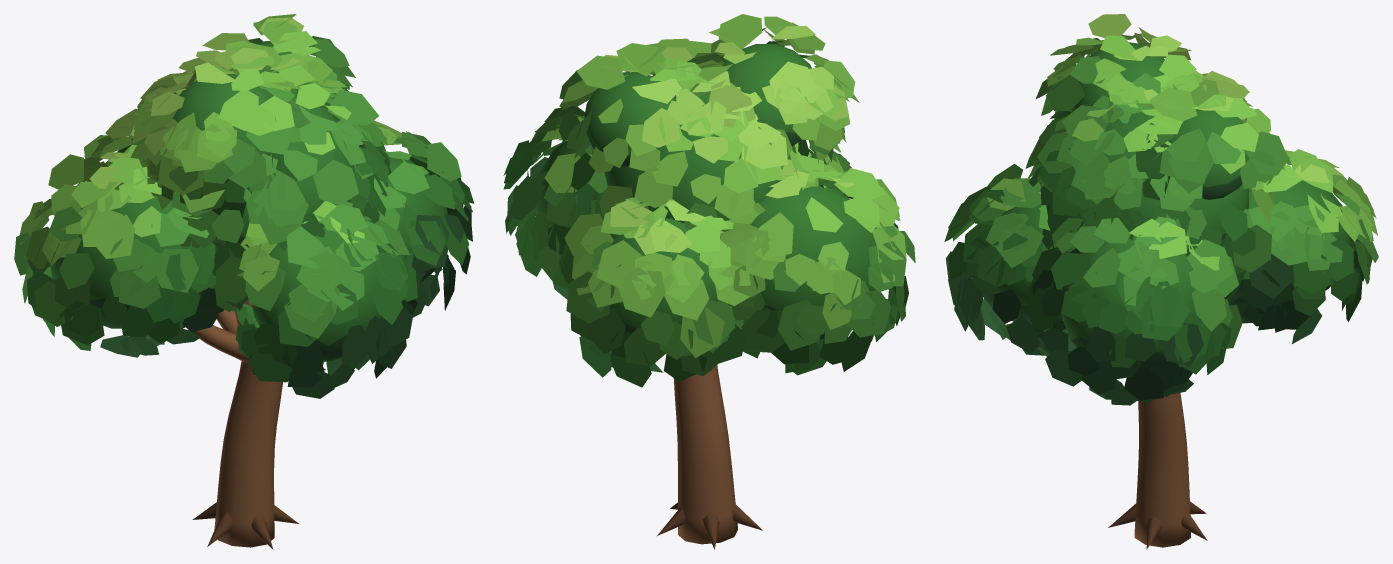
Rendered from TreeOak.glb.
3 renders of one model, left to right at view 1: azimuth 30°, elevation 25°; view 2: azimuth 150°, elevation 25°; view 3: azimuth 270°, elevation 25°, orthographic. The views are drawn at different scales.
Visible parts, largest first — view 1: Canopy, Body; view 2: Canopy, Body; view 3: Canopy, Body.
Boxes of the visible parts, <box> form: Canopy: <box>14,14,474,398</box>; Body: <box>187,300,298,549</box>; Canopy: <box>503,14,915,387</box>; Body: <box>657,365,762,549</box>; Canopy: <box>944,14,1378,405</box>; Body: <box>1108,392,1207,549</box>.
Size of the model in its own units: 12.53 by 14.56 by 11.75.
Materials: 2 (2 with a texture image).
